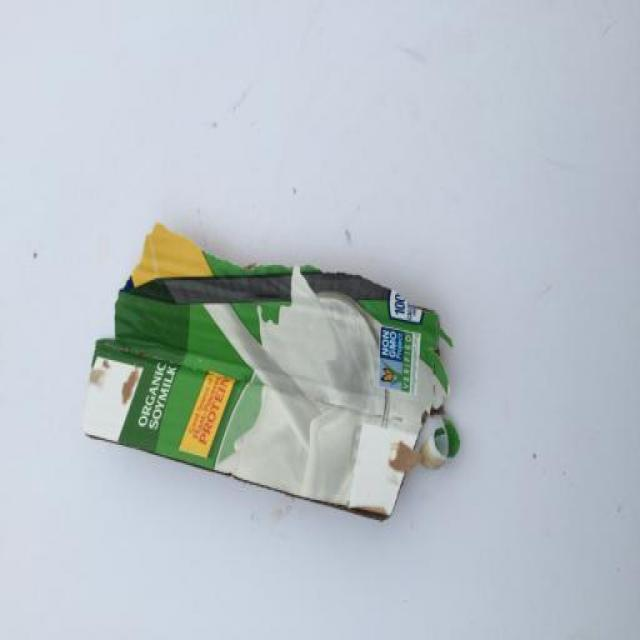cardboard: (82, 223, 456, 522)
